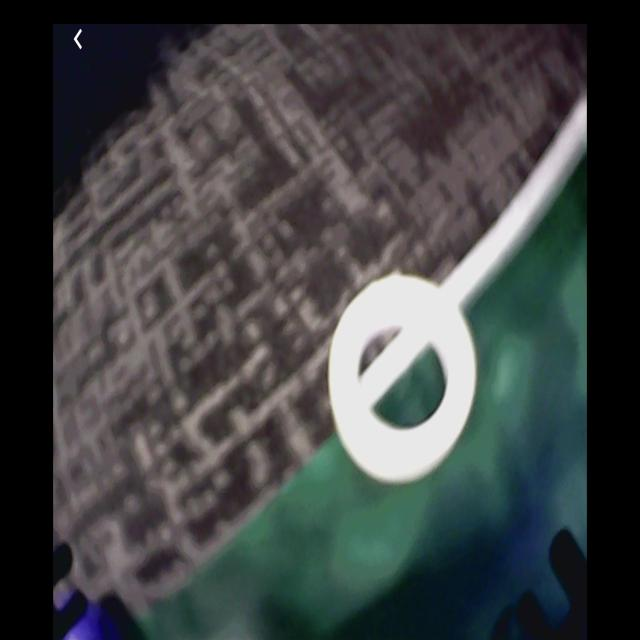ball: (54, 588, 110, 640)
